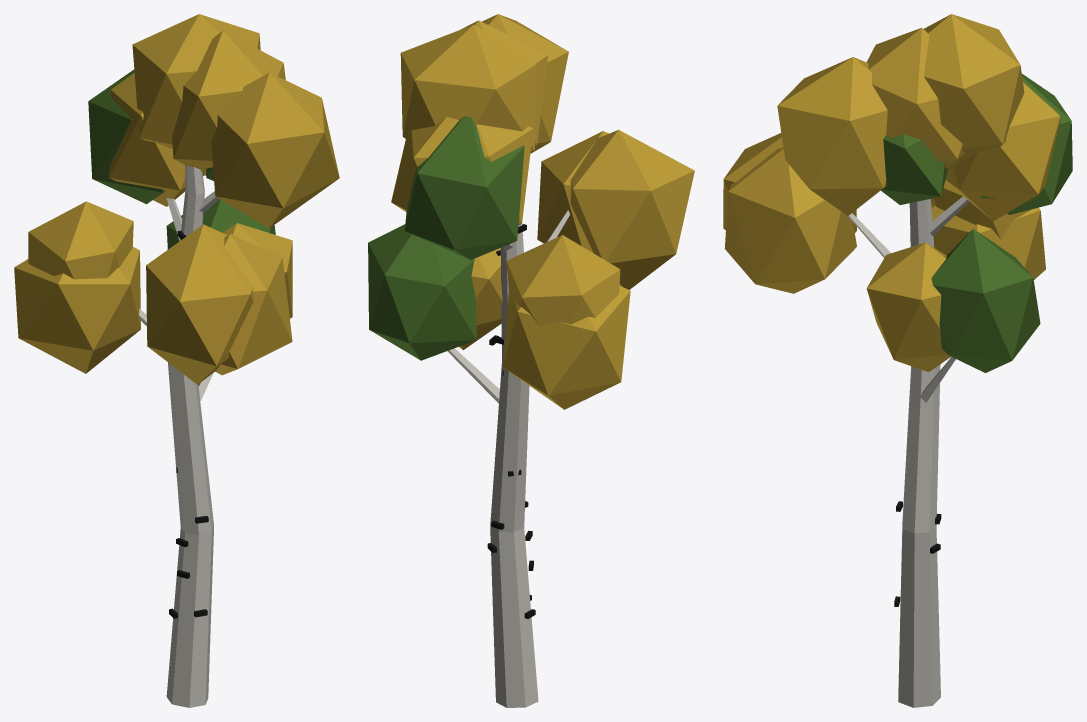
File: tree_birch.glb
3 views of the same model, side by side, from view 1: azimuth 30°, elevation 25°; view 2: azimuth 150°, elevation 25°; view 3: azimuth 270°, elevation 25° (orthographic). The views are drawn at different scales.
Parts seen in each view (by area): view 1: tree_birch; view 2: tree_birch; view 3: tree_birch.
Boxes of the visible parts, x1,y1,x2,y2 form: tree_birch: [14, 14, 339, 707]; tree_birch: [368, 14, 694, 707]; tree_birch: [723, 14, 1072, 707].
Size of the model in its own units: 2.03 by 5.15 by 2.34.
